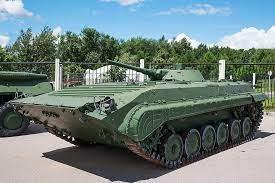tank: (8, 54, 272, 170)
